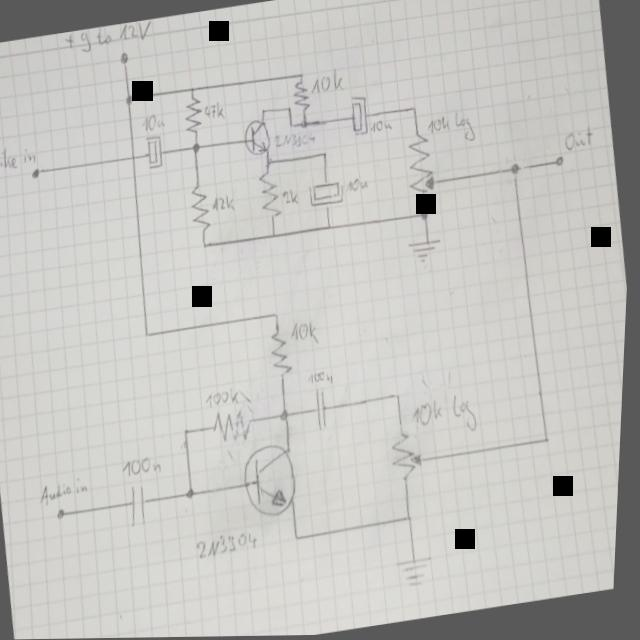capacitor: (127, 481, 156, 529), (344, 93, 374, 138), (307, 177, 347, 210), (312, 386, 334, 432), (143, 134, 166, 170)
crossover: (129, 151, 138, 162)
ground: (399, 552, 441, 592), (406, 236, 444, 265)
junction: (507, 161, 524, 179), (186, 485, 200, 500), (280, 407, 293, 423), (123, 91, 134, 107), (190, 141, 203, 154), (419, 208, 431, 222), (407, 511, 418, 525), (299, 117, 310, 128), (184, 426, 193, 437), (325, 221, 334, 232), (545, 435, 554, 445), (320, 150, 329, 160), (395, 391, 403, 402), (202, 240, 210, 251), (264, 157, 272, 168), (271, 230, 279, 240), (410, 105, 418, 114), (259, 106, 267, 115), (296, 533, 304, 542), (188, 84, 196, 93), (287, 120, 295, 129), (297, 70, 304, 80), (274, 310, 281, 319), (145, 330, 152, 339), (286, 105, 292, 113)
resistor: (400, 130, 441, 197), (388, 429, 428, 484), (211, 406, 260, 444), (187, 181, 215, 232), (269, 329, 296, 380), (256, 169, 283, 219), (180, 95, 206, 135), (290, 79, 312, 111)
terminal: (552, 155, 566, 169), (30, 165, 43, 179), (118, 50, 130, 65), (58, 506, 70, 519)
text: (58, 18, 157, 56), (411, 390, 482, 440), (197, 528, 263, 561), (425, 108, 478, 149), (39, 474, 93, 504), (204, 385, 255, 411), (0, 142, 40, 174), (271, 127, 317, 152), (123, 453, 166, 479), (308, 69, 345, 96), (290, 318, 323, 348), (561, 125, 595, 153), (209, 191, 238, 214), (308, 368, 337, 388), (200, 100, 226, 122), (140, 111, 167, 132), (367, 117, 395, 136), (344, 175, 371, 194), (281, 186, 300, 206)
transistor: (240, 440, 306, 520), (240, 115, 274, 158)
